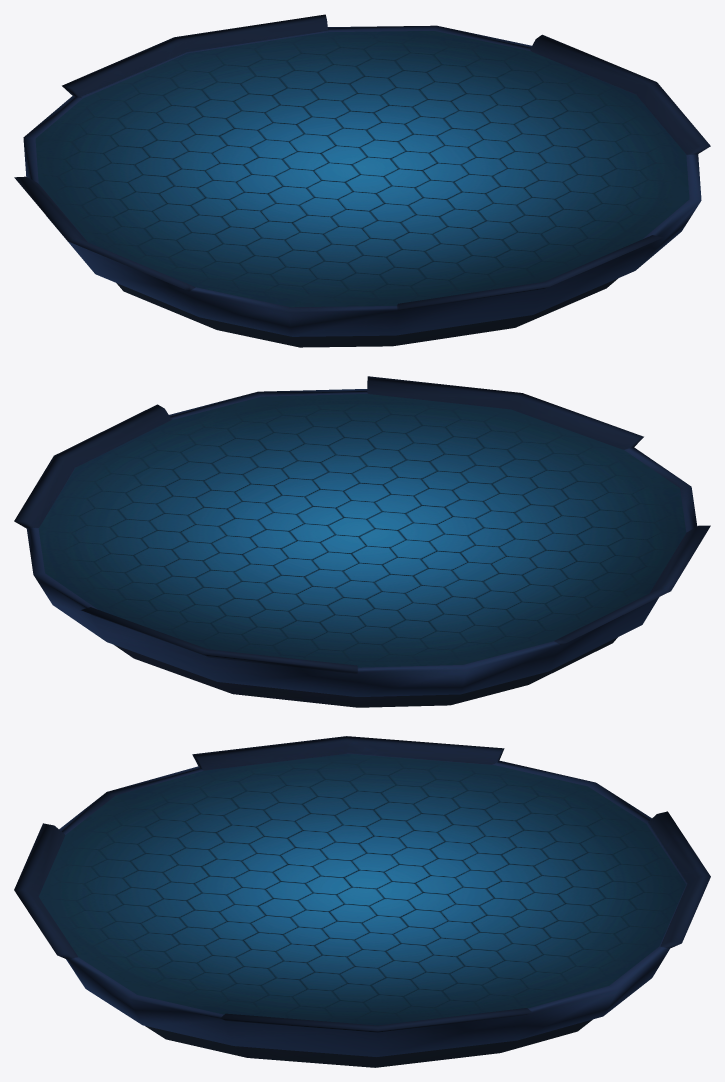
Rendered from Platform.fbx.
The picture shows the model from 3 angles, top to bottom: view 1: azimuth 30°, elevation 25°; view 2: azimuth 150°, elevation 25°; view 3: azimuth 270°, elevation 25°; orthographic projection.
Visible parts, largest first — view 1: Cube_016; view 2: Cube_016; view 3: Cube_016.
Part boxes in pixels (x1,y1,x2,y2): Cube_016: (14,14,710,347); Cube_016: (14,376,710,707); Cube_016: (14,736,710,1067).
Bounding box in the file's own units: 11.11 × 1.7 × 11.11.
